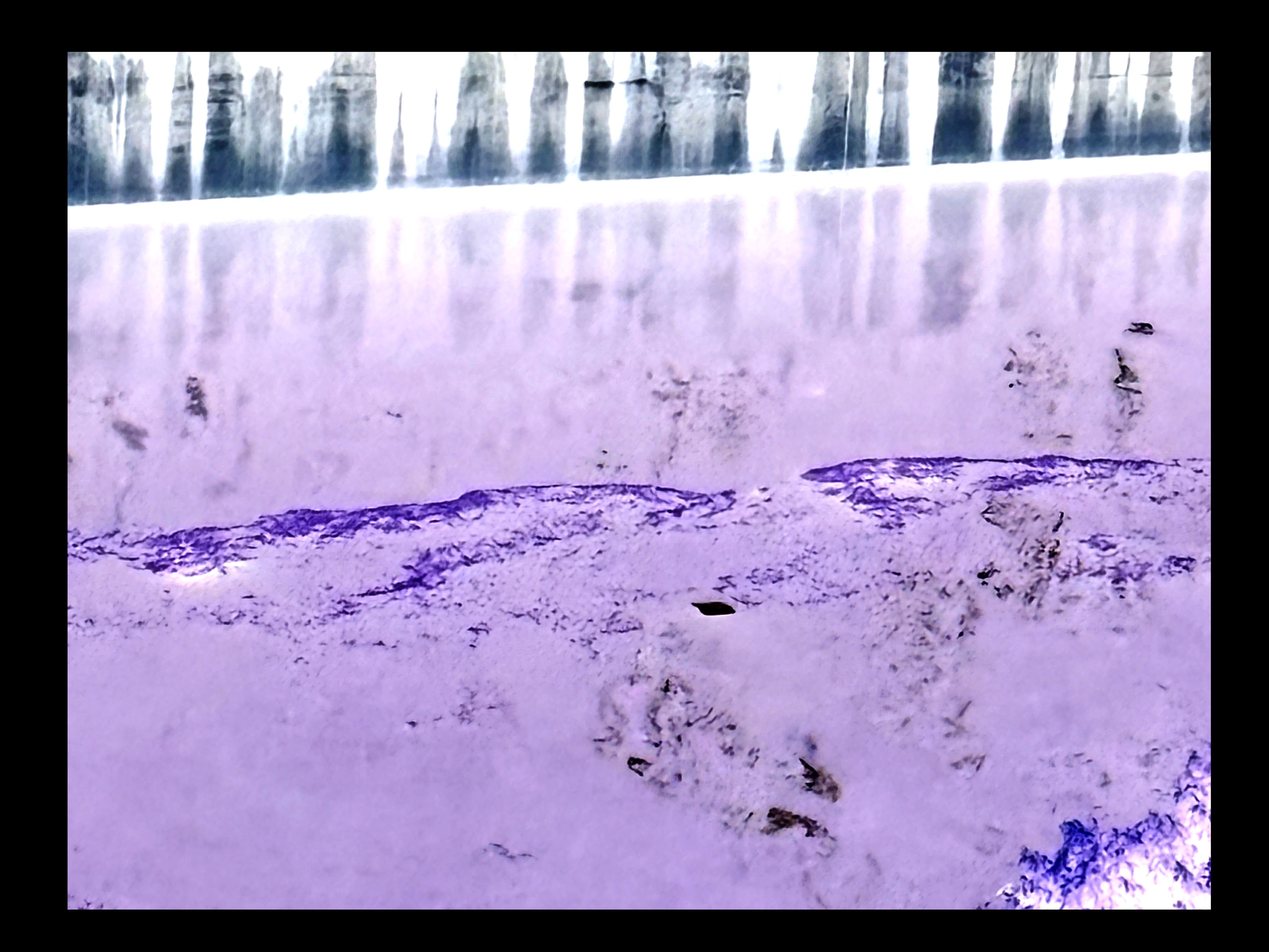Other: (129, 477, 719, 581), (808, 458, 1170, 524)
Plastic wastes: (691, 593, 740, 621)
